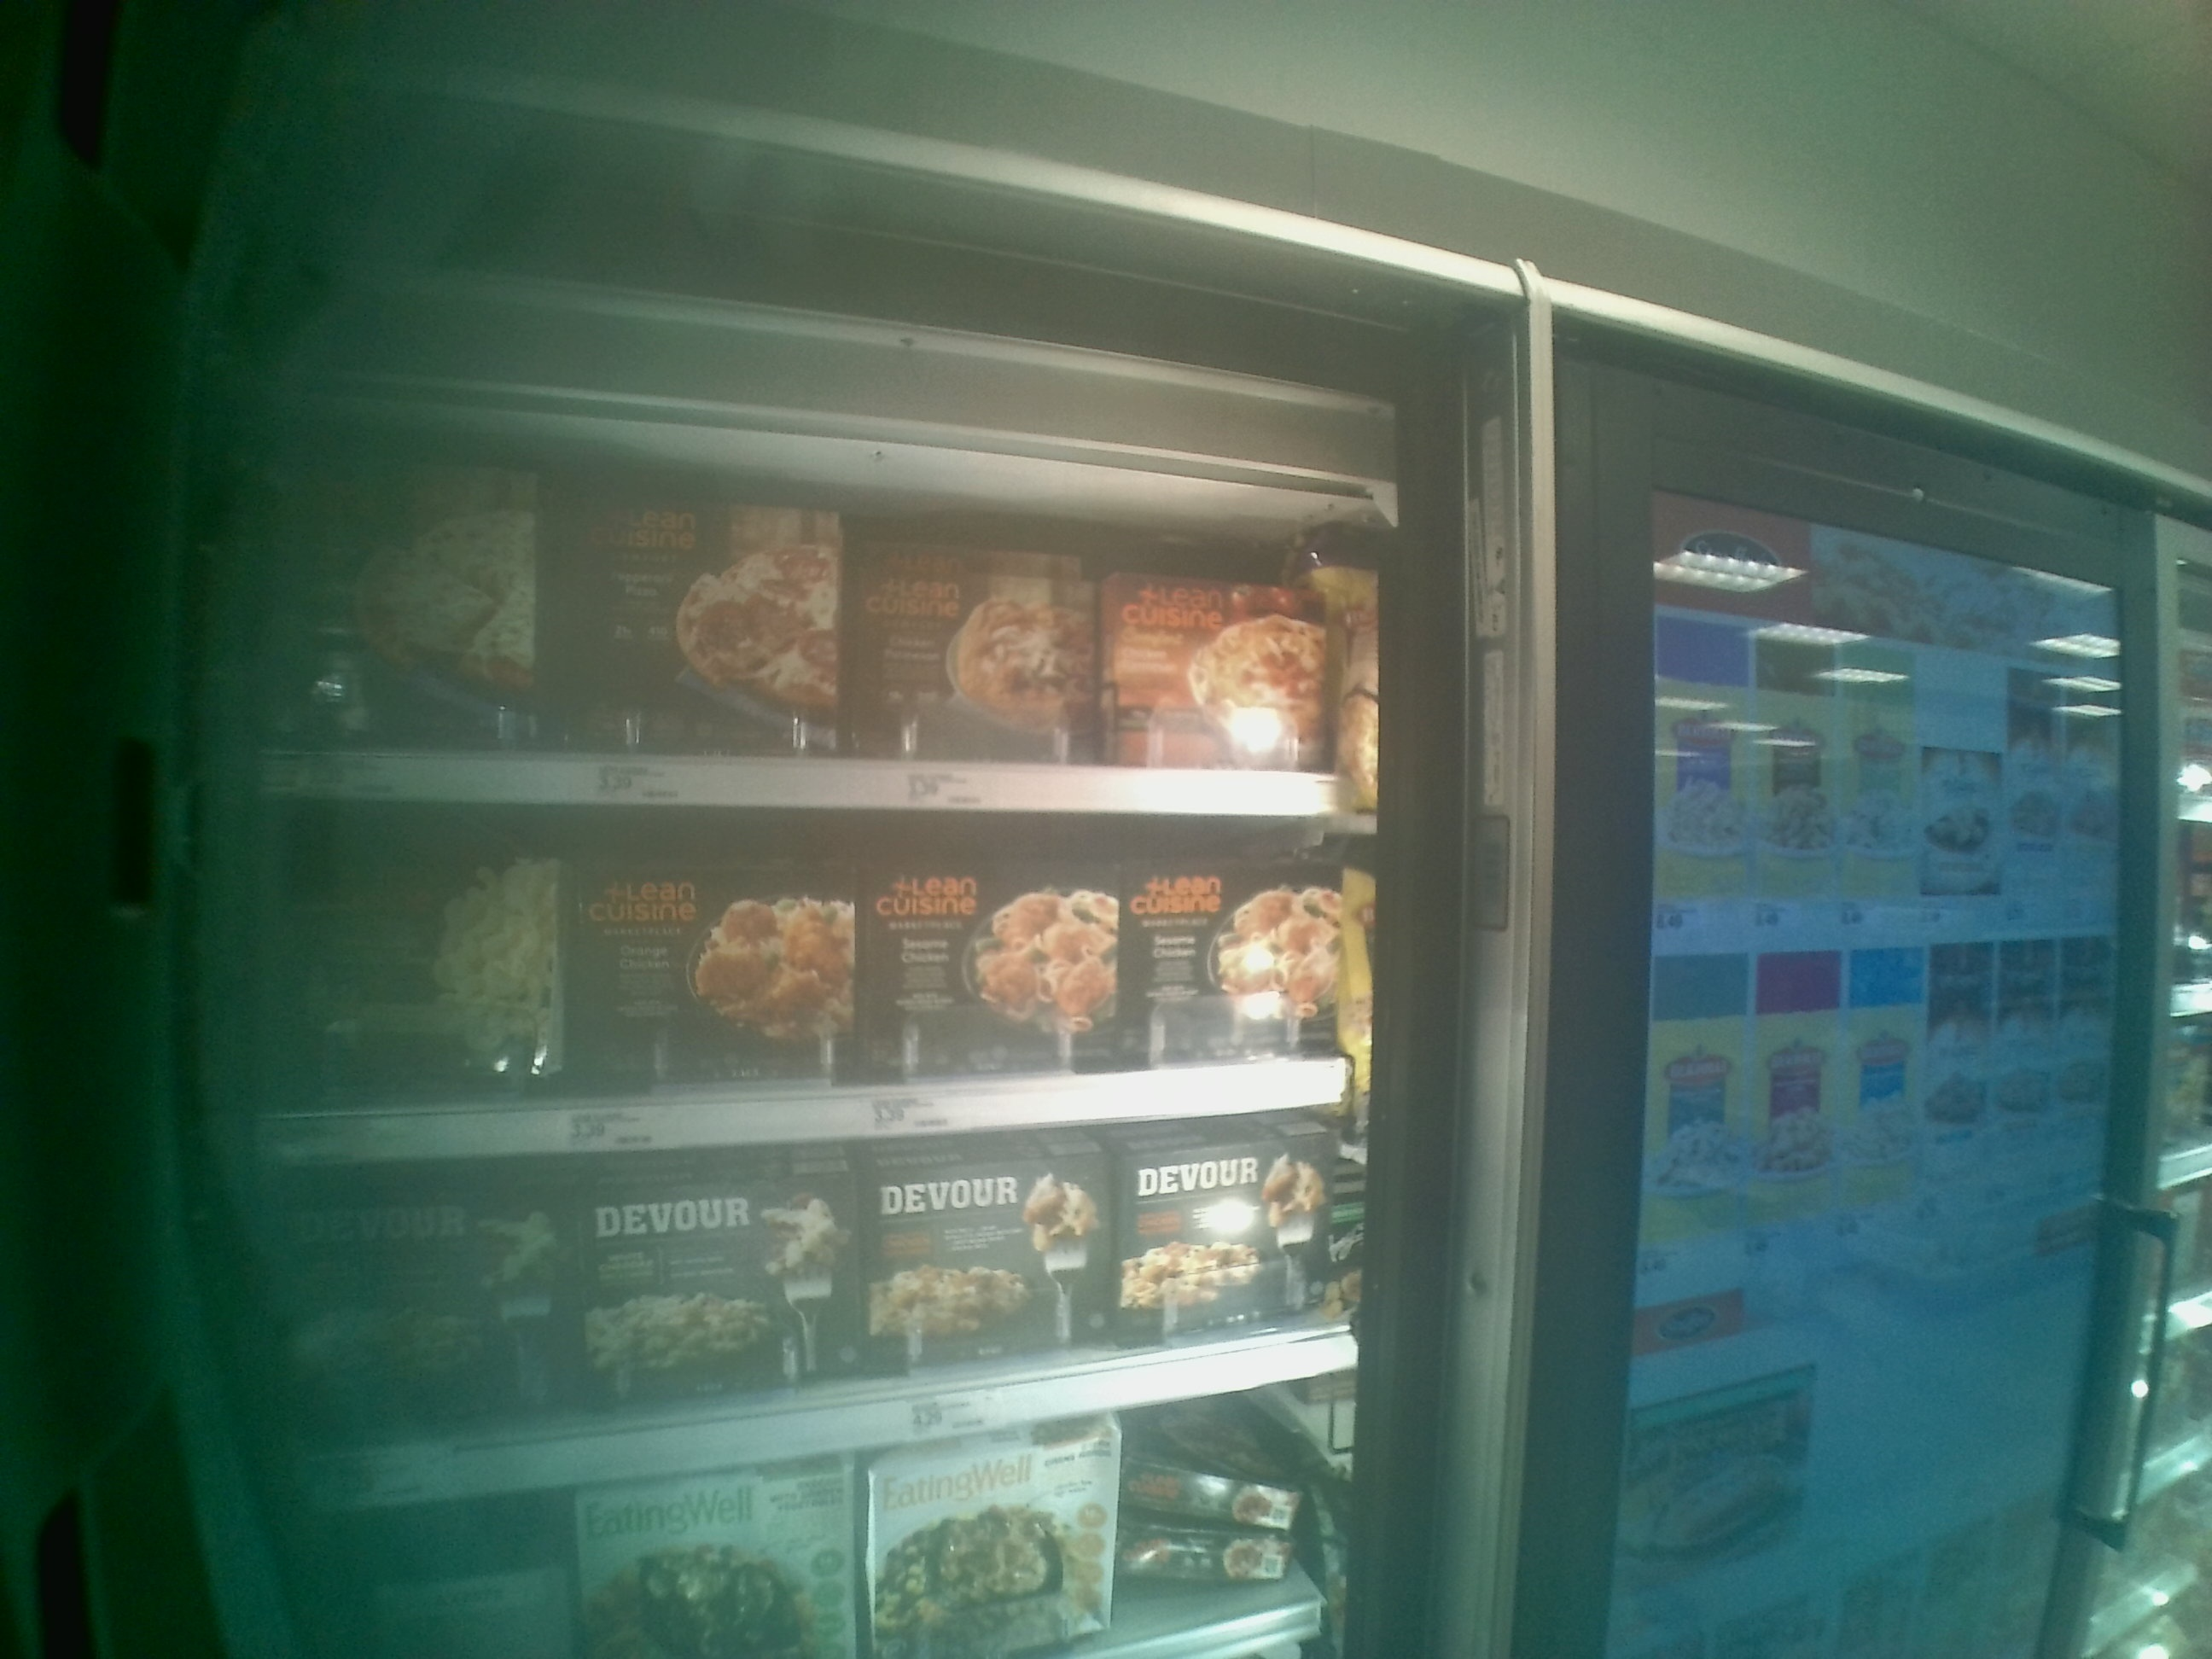shelf: (263, 392, 1360, 817), (240, 1105, 1367, 1502), (249, 807, 1374, 1159)
